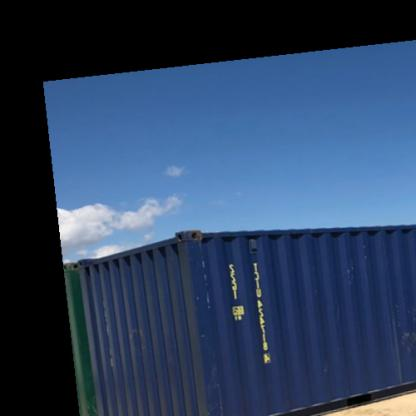Damage: (177, 232, 243, 408), (391, 292, 415, 354)
